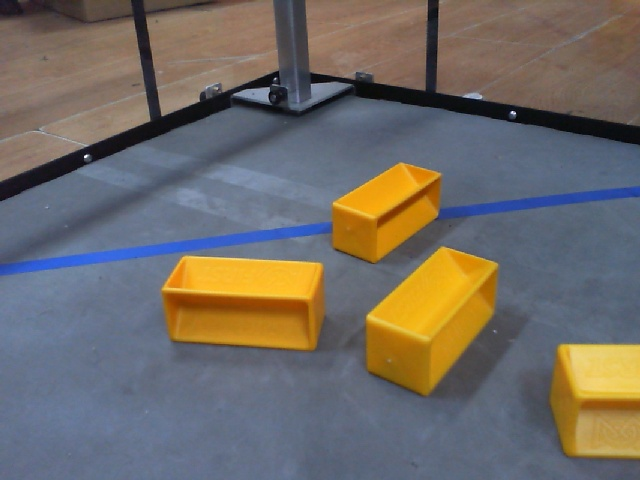YellowSample: (359, 245, 500, 402), (155, 243, 331, 355), (328, 159, 446, 272), (539, 332, 640, 462)
